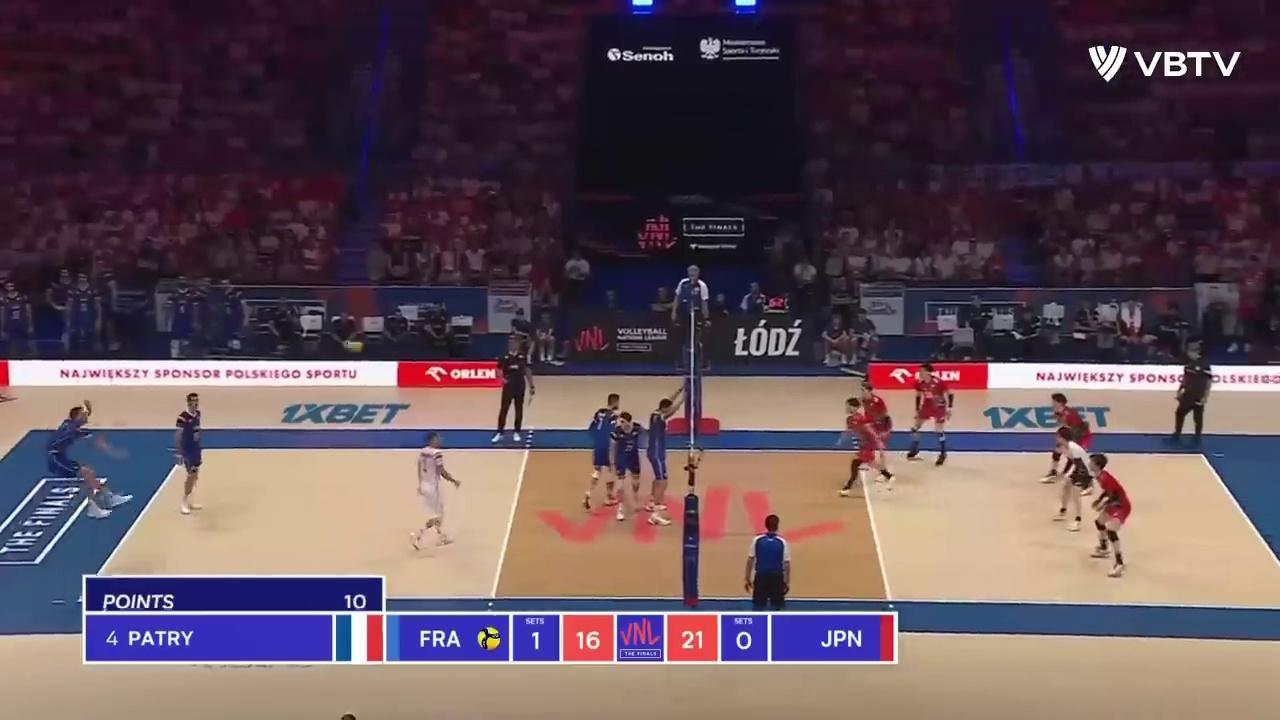ball: (344, 339, 365, 353)
